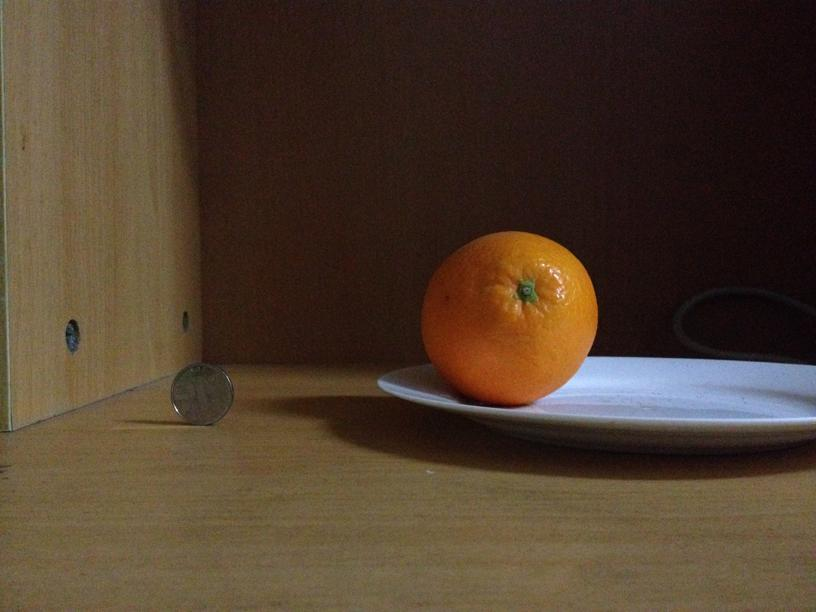coin: (165, 360, 234, 426)
orange: (416, 229, 600, 406)
